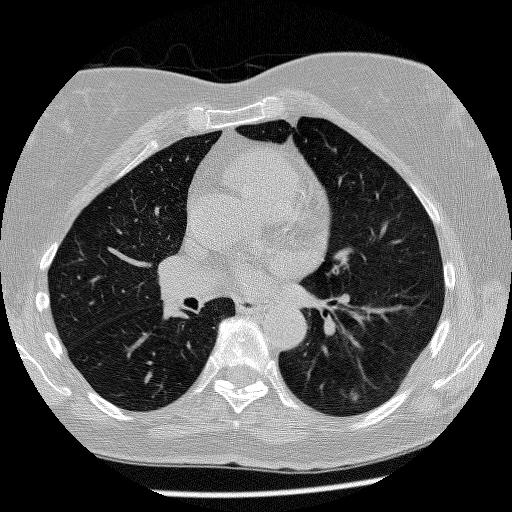nodule: (348, 390, 362, 404)
